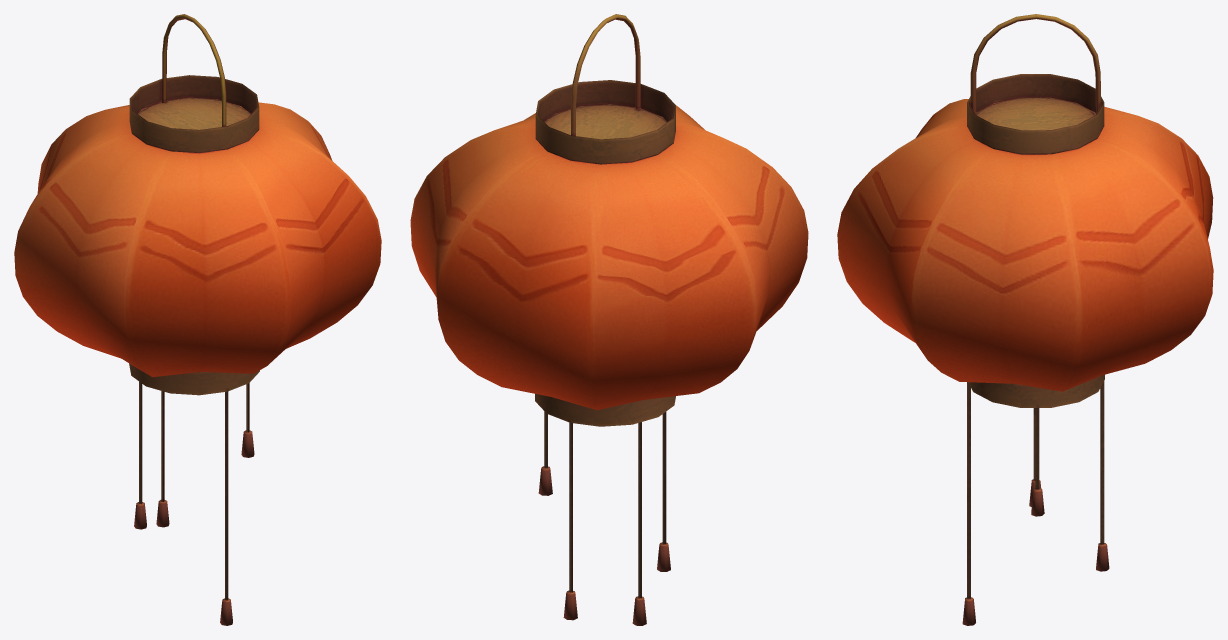
Rendered from SM_Lantern_C.glb.
3 renders of one model, left to right at view 1: azimuth 30°, elevation 25°; view 2: azimuth 150°, elevation 25°; view 3: azimuth 270°, elevation 25°, orthographic. The views are drawn at different scales.
Parts seen in each view (by area): view 1: SM_Lantern_C_LOD0; view 2: SM_Lantern_C_LOD0; view 3: SM_Lantern_C_LOD0.
Boxes of the visible parts, x1,y1,x2,y2 form: SM_Lantern_C_LOD0: (14, 14, 381, 625); SM_Lantern_C_LOD0: (410, 14, 808, 625); SM_Lantern_C_LOD0: (837, 14, 1213, 625).
Bounding box in the file's own units: 0.443 × 0.7715 × 0.4321.
1 material, 1 textured.
